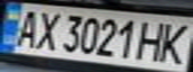0: (78, 12, 100, 56)
1: (115, 16, 139, 60)
2: (96, 15, 121, 57)
3: (57, 11, 84, 54)
A: (9, 7, 45, 48)
H: (136, 17, 169, 62)
K: (154, 19, 193, 65)
X: (30, 7, 63, 52)
